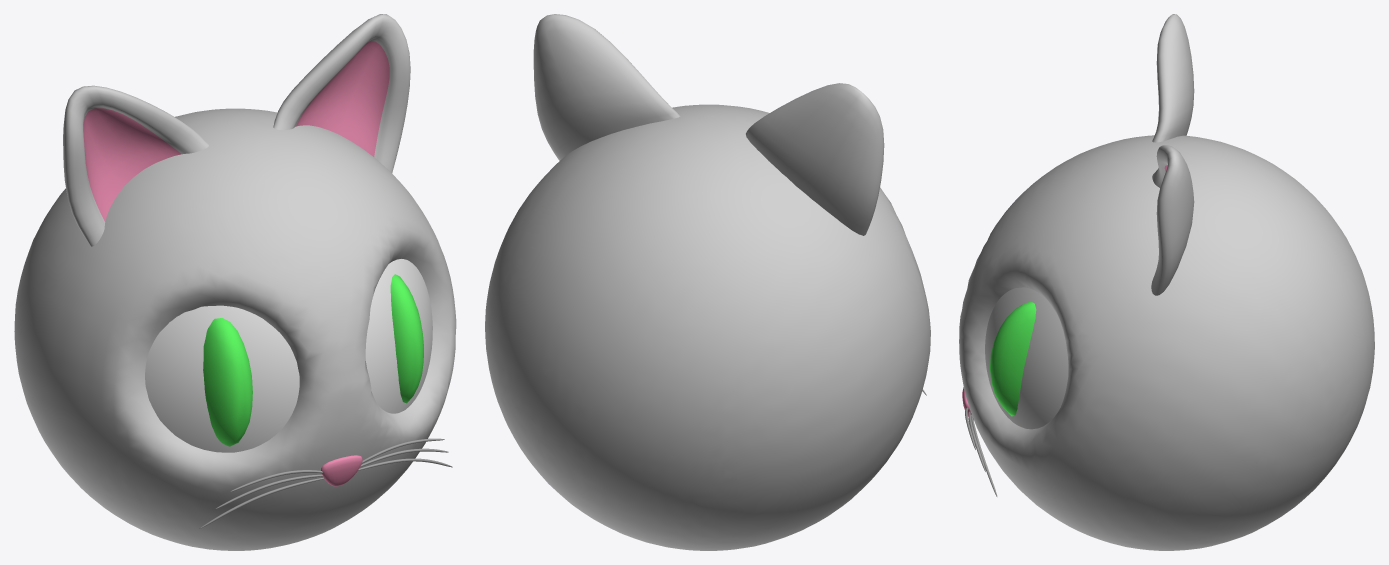
File: cat ball.fbx
3 renders of one model, left to right at view 1: azimuth 30°, elevation 25°; view 2: azimuth 150°, elevation 25°; view 3: azimuth 270°, elevation 25°, orthographic. The views are drawn at different scales.
Visible parts, largest first — view 1: Cube.003; view 2: Cube.003; view 3: Cube.003.
Part boxes in pixels (bbox=[...]): Cube.003: bbox=[14, 14, 456, 550]; Cube.003: bbox=[485, 14, 930, 550]; Cube.003: bbox=[959, 14, 1374, 550].
Bounding box in the file's own units: 200 × 238 × 200.
